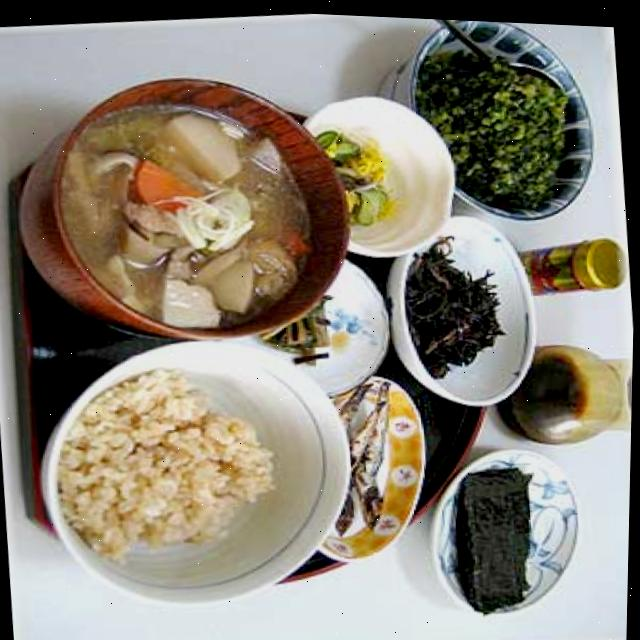米饭主食: (34, 330, 368, 633)
蔬菜料理: (36, 52, 358, 359)
